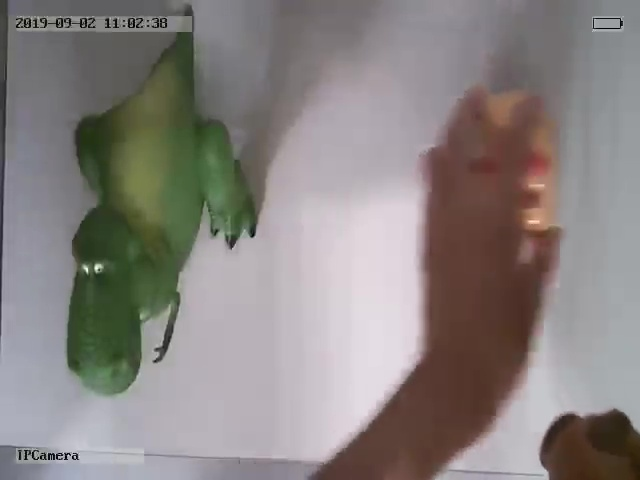rex: (61, 34, 263, 396)
